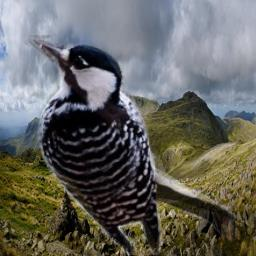Woodpecker: (29, 35, 237, 255)
